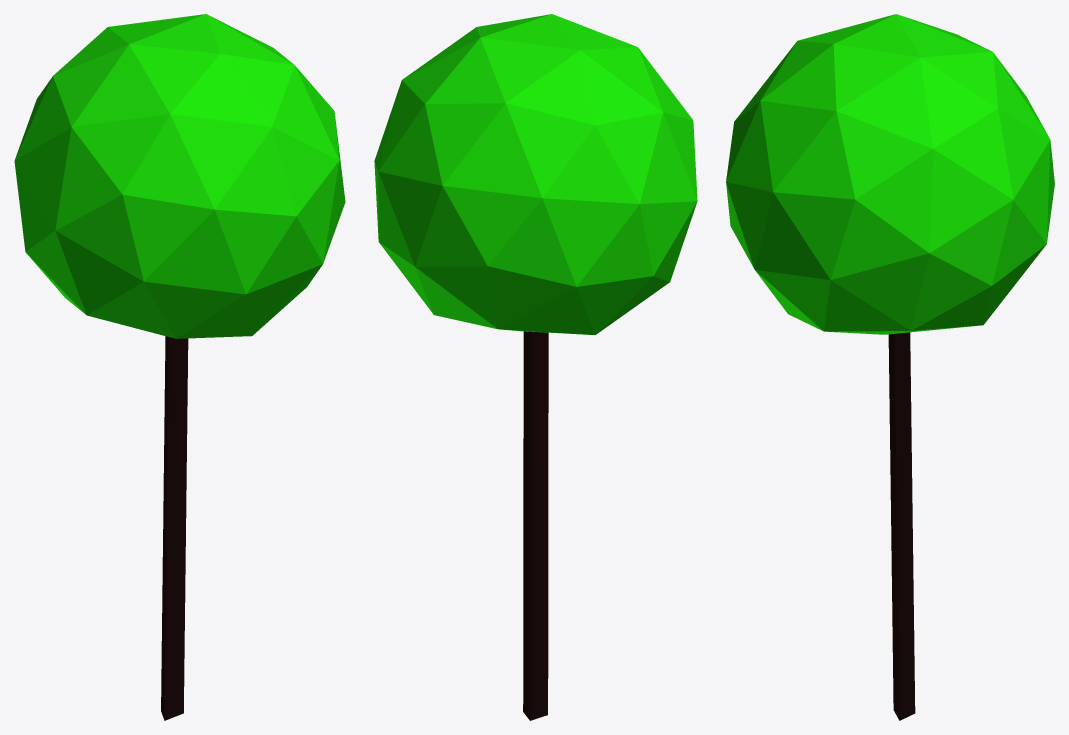
The model's file is arvore1.fbx.
3 views of the same model, side by side, from view 1: azimuth 30°, elevation 25°; view 2: azimuth 150°, elevation 25°; view 3: azimuth 270°, elevation 25° (orthographic).
Visible parts, largest first — view 1: Cone; view 2: Cone; view 3: Cone.
Part boxes in pixels (x1,y1,x2,y2): Cone: [14, 14, 345, 720]; Cone: [374, 14, 697, 720]; Cone: [726, 14, 1054, 720].
Size of the model in its own units: 234 by 529 by 232.
